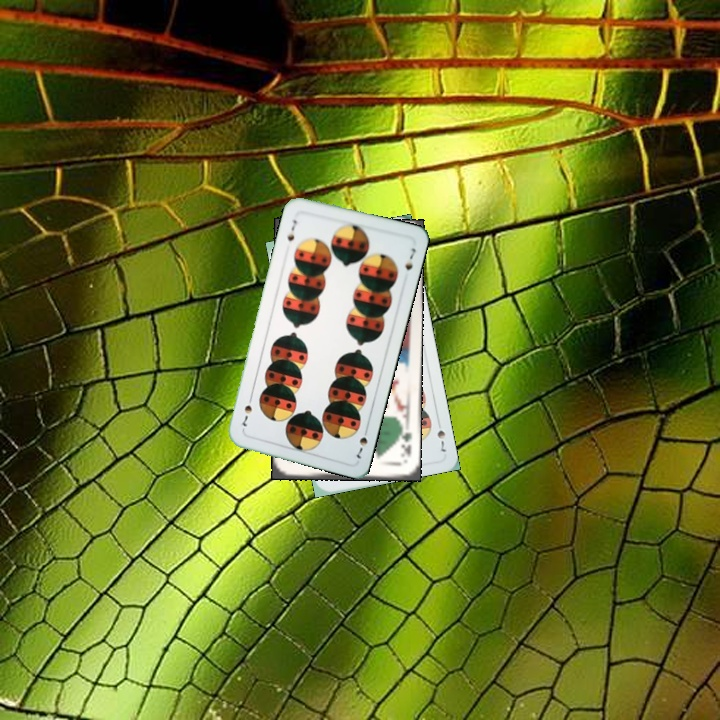GK: (396, 423, 415, 460)
S7: (352, 423, 371, 461), (433, 415, 448, 455), (283, 215, 299, 244)
